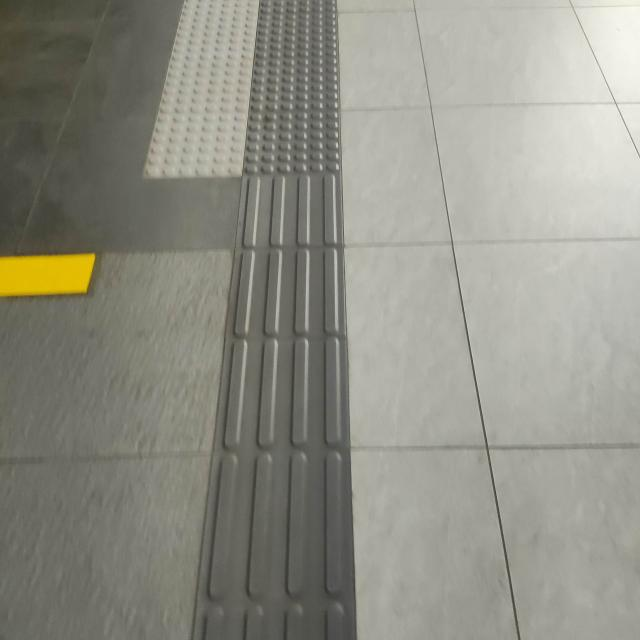lurus: (210, 6, 346, 638)
